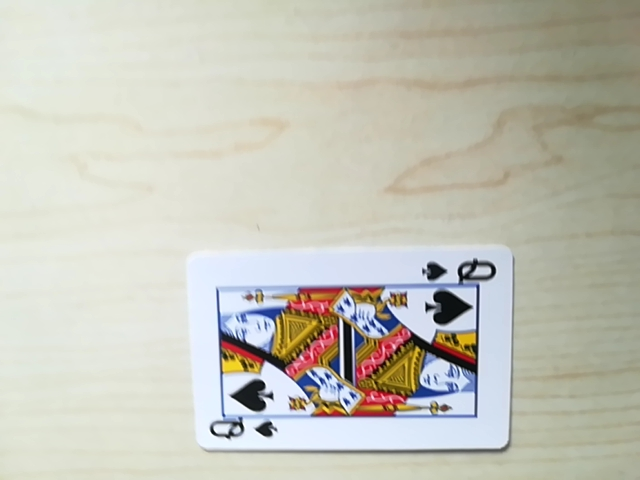ht q: (425, 255, 497, 290), (204, 411, 275, 446)
